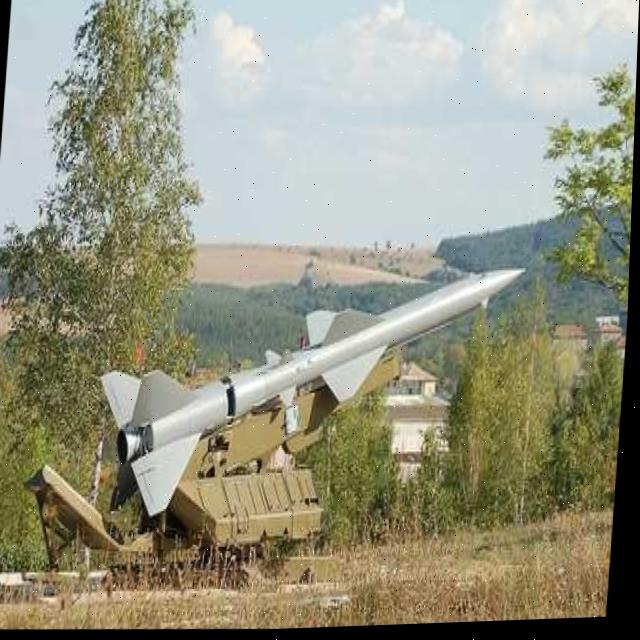missile: (95, 254, 529, 532)
